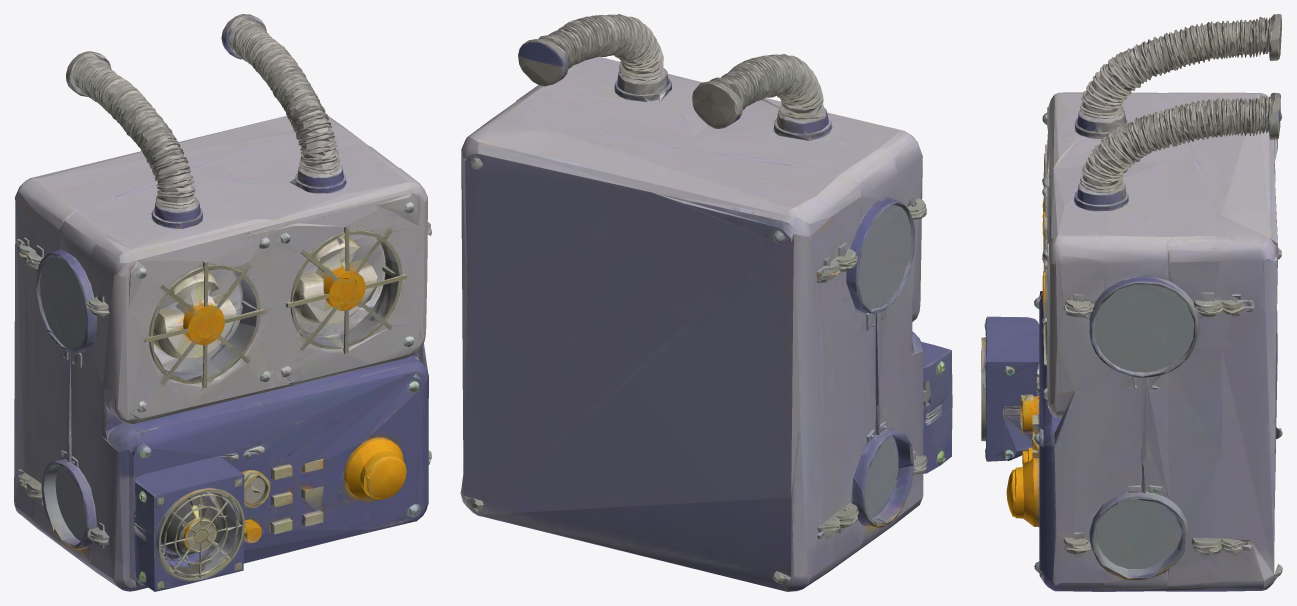
Rendered from ventilation-unit.gltf.
The picture shows the model from 3 angles, left to right: view 1: azimuth 30°, elevation 25°; view 2: azimuth 150°, elevation 25°; view 3: azimuth 270°, elevation 25°; orthographic projection. The views are drawn at different scales.
Bounding box in the file's own units: 1.52 × 1.9 × 1.12.
Materials: 1 (1 with a texture image).
